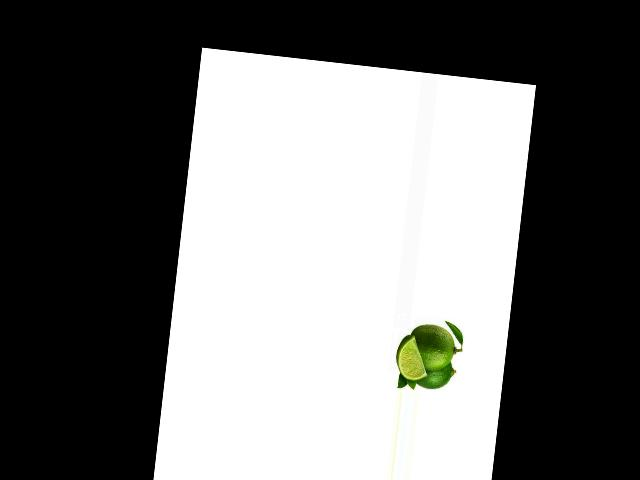lemon: (409, 322, 459, 371)
